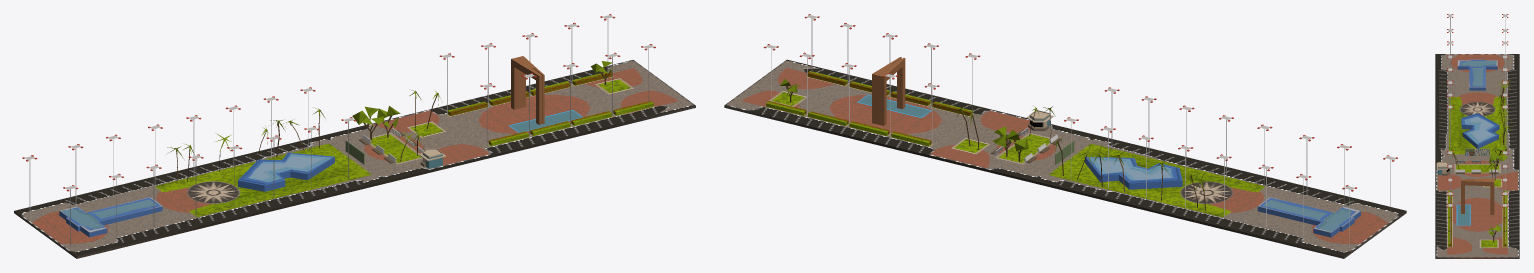
Rendered from praça das aguas LOD1.fbx.
3 renders of one model, left to right at view 1: azimuth 30°, elevation 25°; view 2: azimuth 150°, elevation 25°; view 3: azimuth 270°, elevation 25°, orthographic. The views are drawn at different scales.
Parts seen in each view (by area): view 1: Praça das Aguas LOD1; view 2: Praça das Aguas LOD1; view 3: Praça das Aguas LOD1.
Boxes of the visible parts, bbox=[...] form: Praça das Aguas LOD1: bbox=[14, 14, 695, 258]; Praça das Aguas LOD1: bbox=[724, 14, 1406, 258]; Praça das Aguas LOD1: bbox=[1435, 14, 1519, 258].
Size of the model in its own units: 5407 by 531 by 946.
